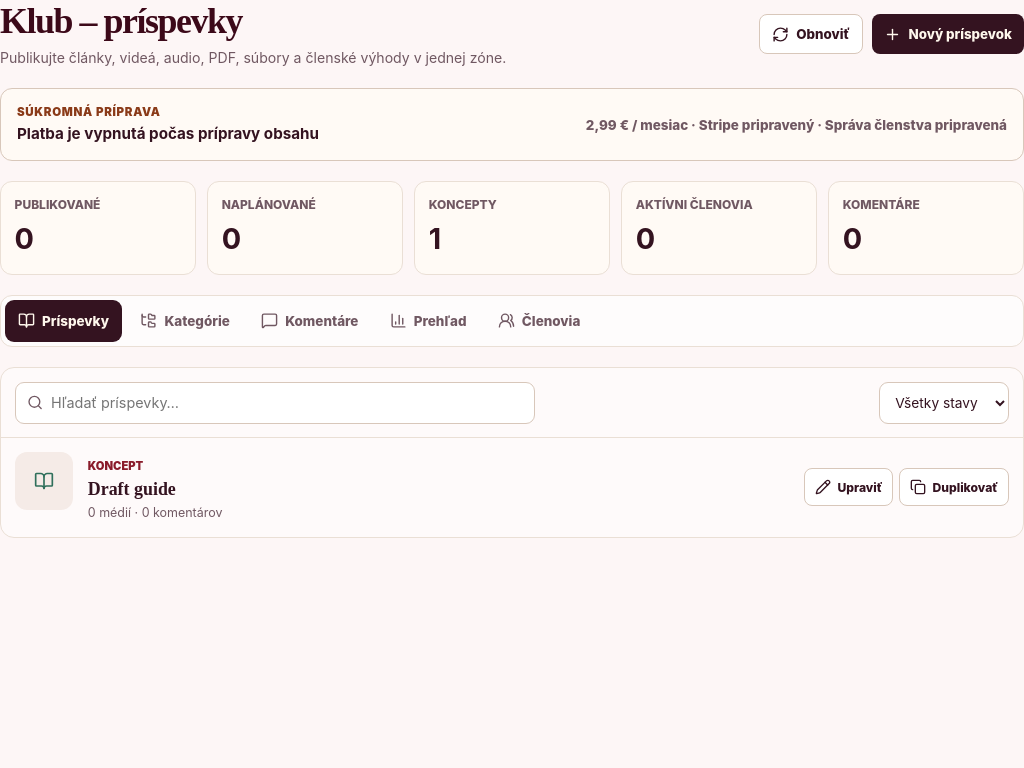
Test case: MembershipAdminSection › opens an existing post in the creator editor
Click the button "Upraviť": (849, 488) [804,468,893,506]
(page scrolled)
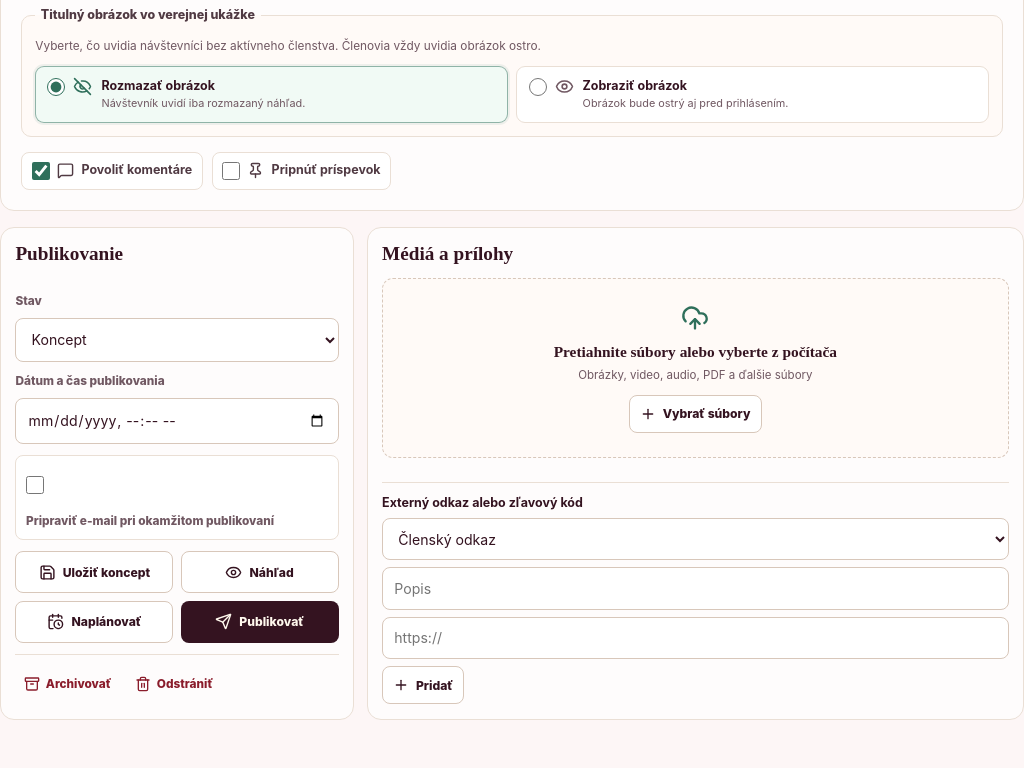
expect the button "Uložiť koncept" is shown: met, box [15,551,173,593]
